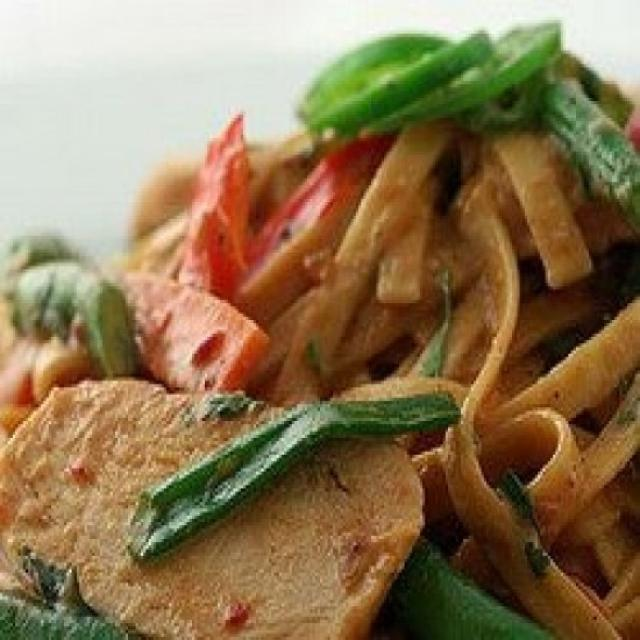牛肉菜式: (20, 26, 627, 620)
